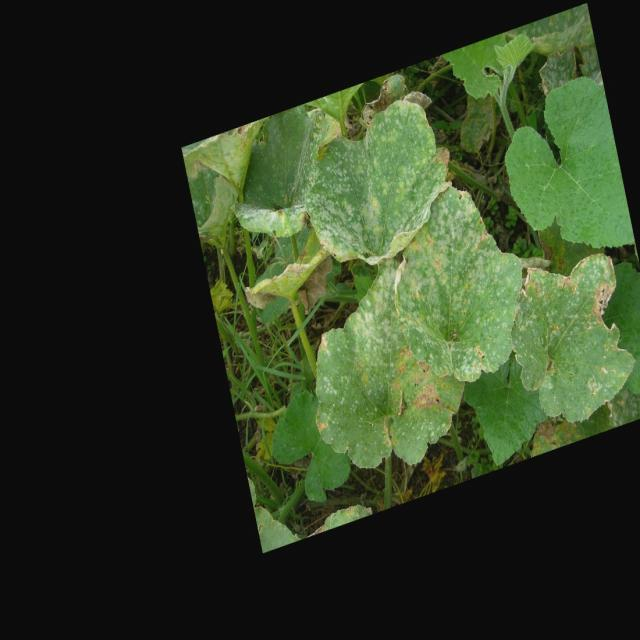Leaf_Mold: (388, 175, 530, 392), (314, 266, 462, 468), (313, 82, 449, 276), (500, 255, 632, 420), (219, 114, 340, 268)
